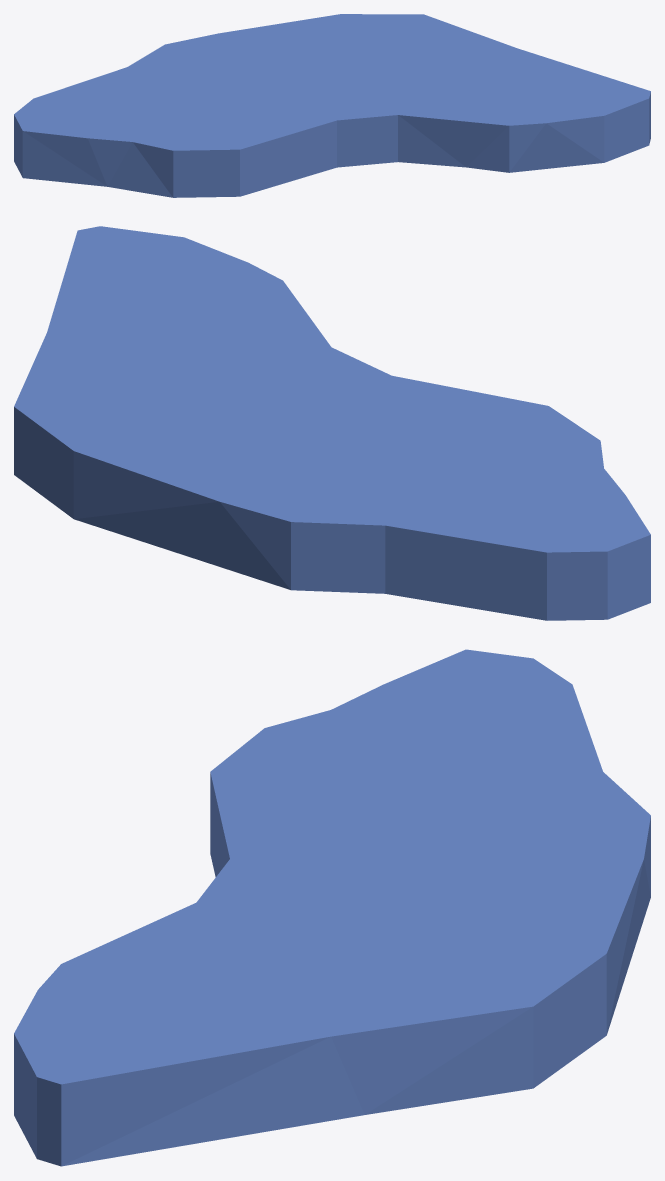
Rendered from SP_Ground04.fbx.
3 renders of one model, top to bottom at view 1: azimuth 30°, elevation 25°; view 2: azimuth 150°, elevation 25°; view 3: azimuth 270°, elevation 25°, orthographic. The views are drawn at different scales.
Parts seen in each view (by area): view 1: SP_Ground04; view 2: SP_Ground04; view 3: SP_Ground04.
Part boxes in pixels (x1,y1,x2,y2): SP_Ground04: (14,14,650,197); SP_Ground04: (14,226,650,620); SP_Ground04: (14,649,650,1166).
Size of the model in its own units: 262 by 23 by 162.
Materials: 1 (1 with a texture image).
